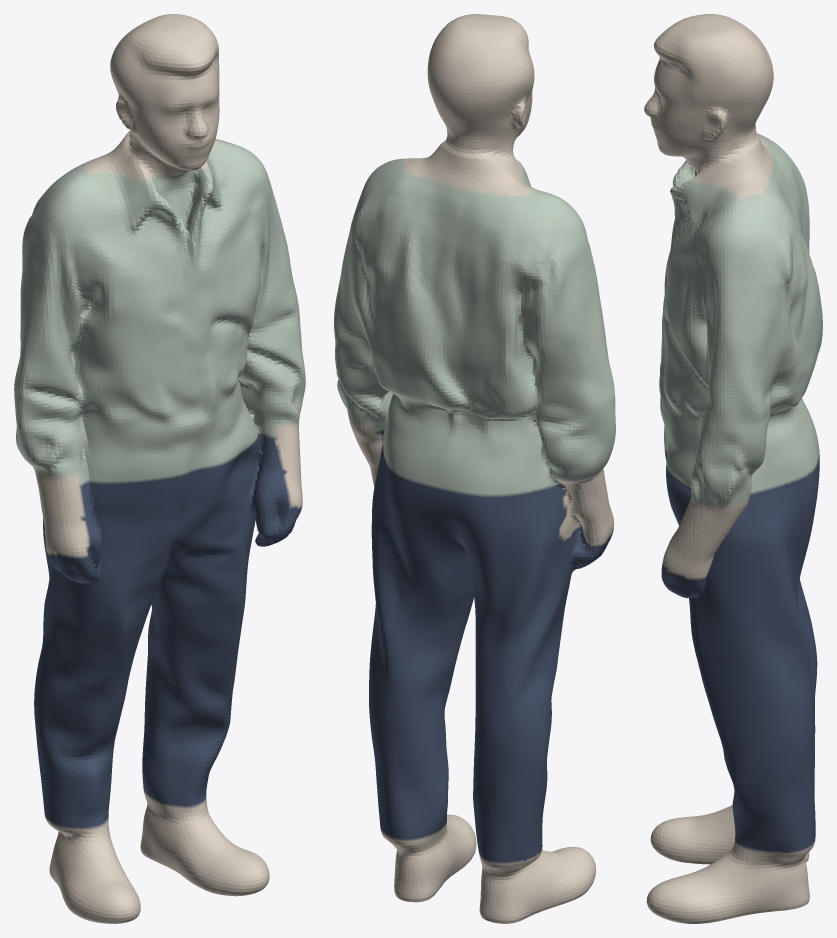
File: shirt9_pant11.glb
3 views of the same model, side by side, from view 1: azimuth 30°, elevation 25°; view 2: azimuth 150°, elevation 25°; view 3: azimuth 270°, elevation 25° (orthographic).
Visible parts, largest first — view 1: geometry_0; view 2: geometry_0; view 3: geometry_0.
Part boxes in pixels (<box>): geometry_0: <box>14,14,305,923</box>; geometry_0: <box>334,14,615,923</box>; geometry_0: <box>644,14,822,923</box>.
Size of the model in its own units: 0.6743 by 1.99 by 0.3729.
